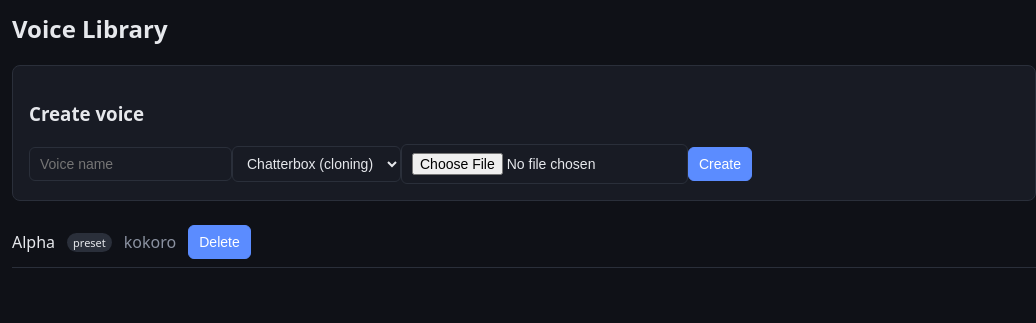
Test: VoiceLibrary › surfaces create errors
In the field labelled "Voice name": (130, 164) [29,147,232,181], type "X"
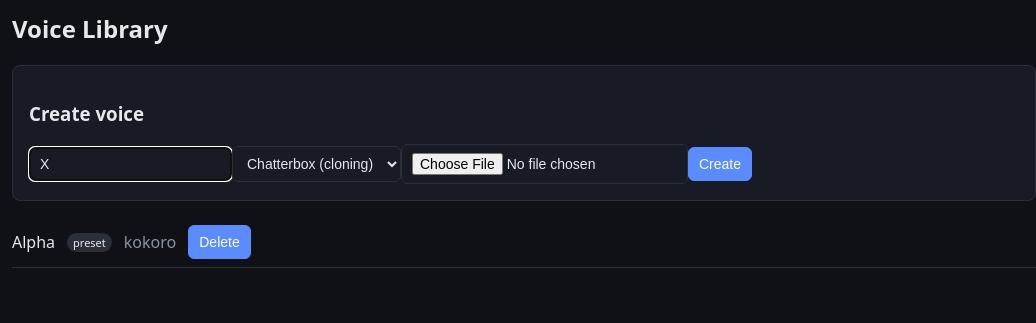
Click the button "Create": (720, 164) [688,147,752,181]
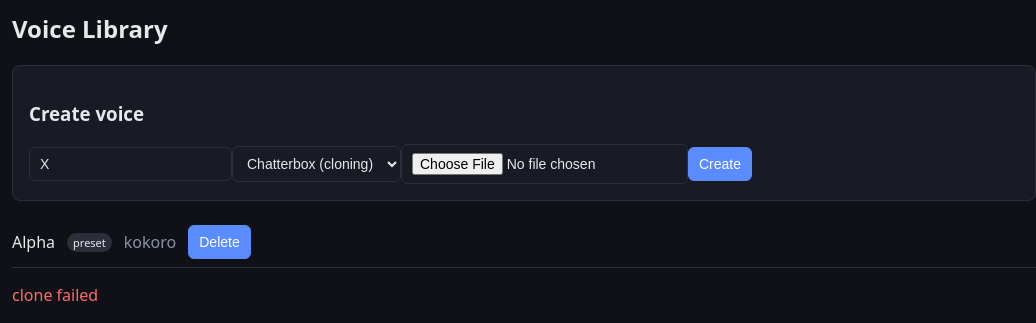
Now the message reads "clone failed", box [12,284,98,306]
